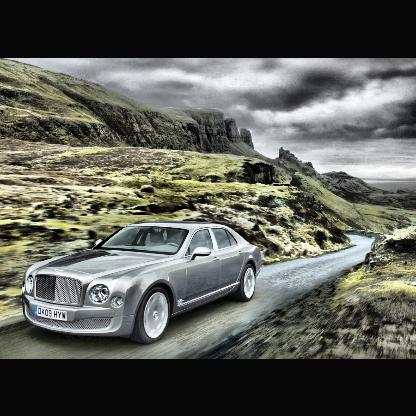Bentley Mulsanne Sedan 2011: (20, 219, 265, 341)
